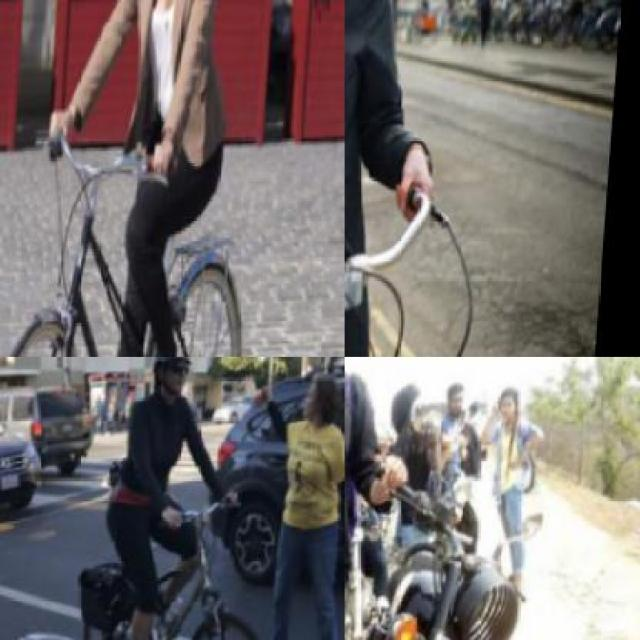With Helmet: (149, 357, 197, 406)
